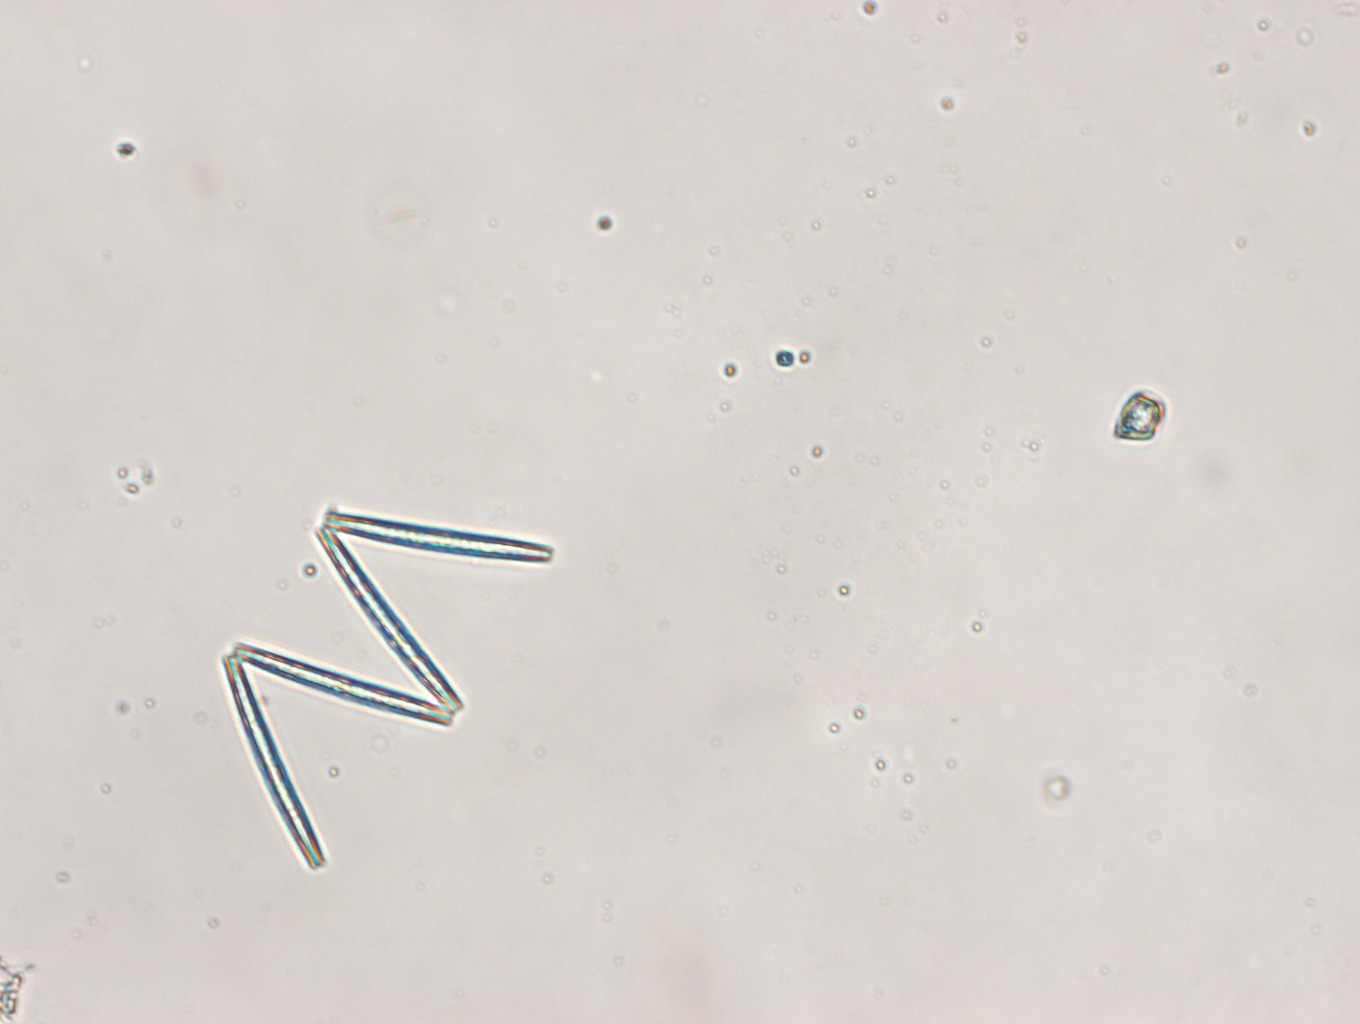thalassionema nitzschioides: (223, 509, 553, 873)
